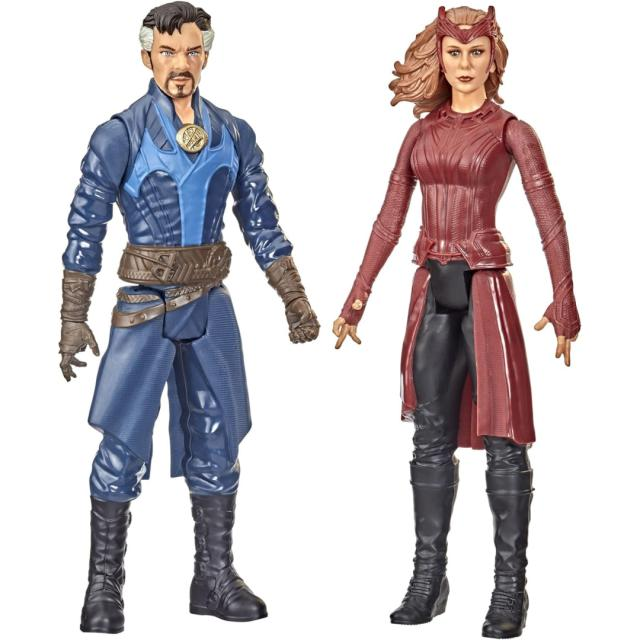doctor_strange: (95, 5, 266, 367)
